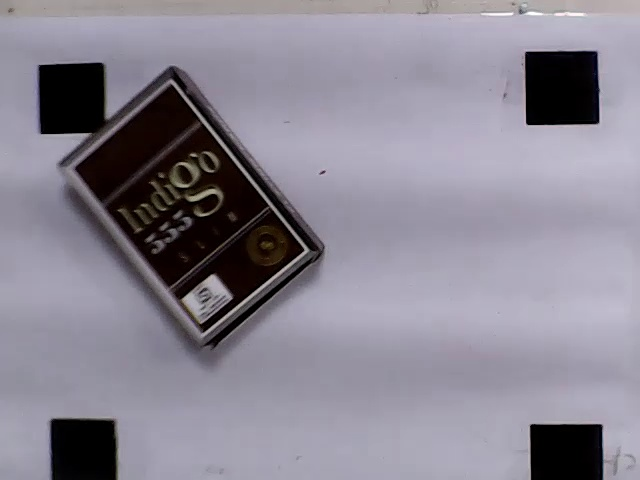BEX: (69, 83, 308, 336)
